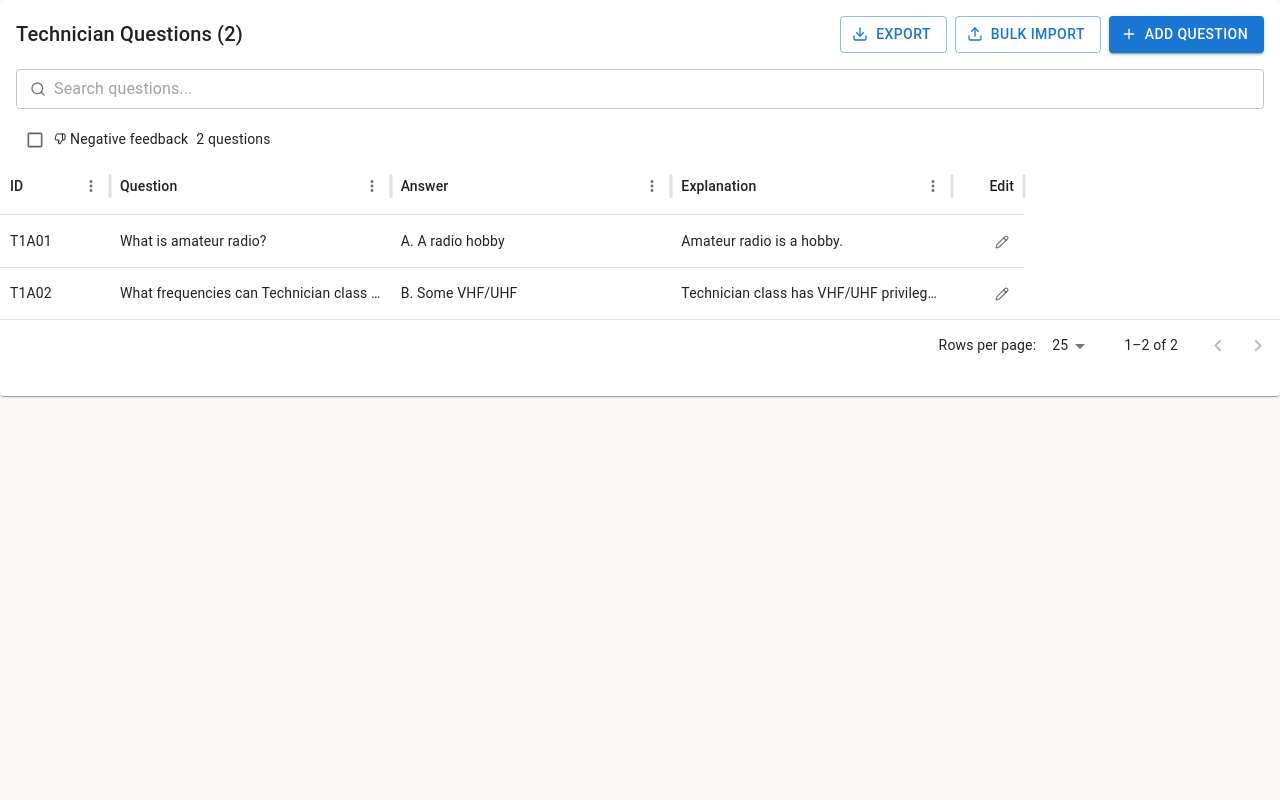
Test: AdminQuestions › Edit Question Dialog › should close edit dialog when clicking Cancel
The image size is (1280, 800).
expect the text "T1A01" is shown: met, box x1=10 y1=232 x2=52 y2=248
What coordinates should you click on to do the following:
click the button named "Edit T1A01"
I would click on:
 (1002, 242)
Its box is x1=990 y1=230 x2=1014 y2=254.
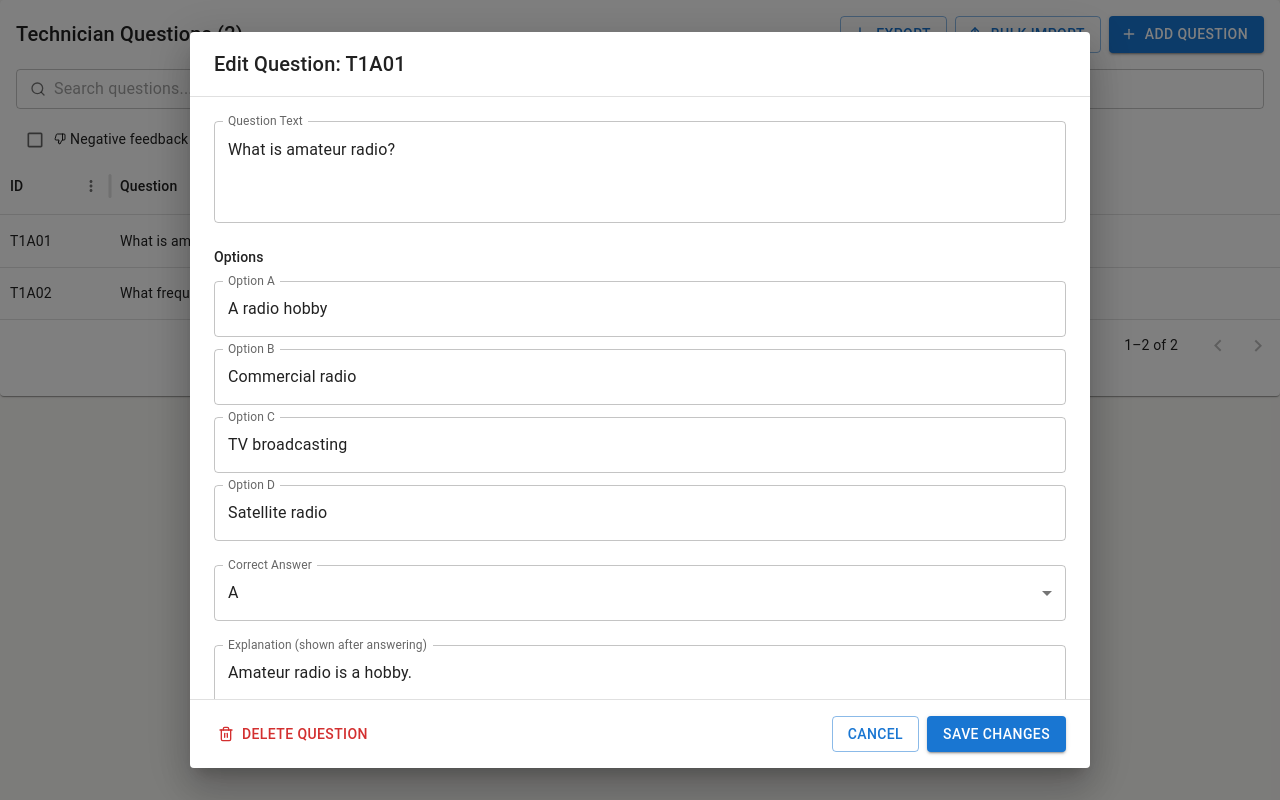
expect the heading "Edit Question: T1A01" is shown: met, box x1=214 y1=52 x2=406 y2=76
What coordinates should you click on to do the following:
click the button "Cancel"
I would click on:
 (875, 734)
Its box is x1=832 y1=716 x2=919 y2=752.
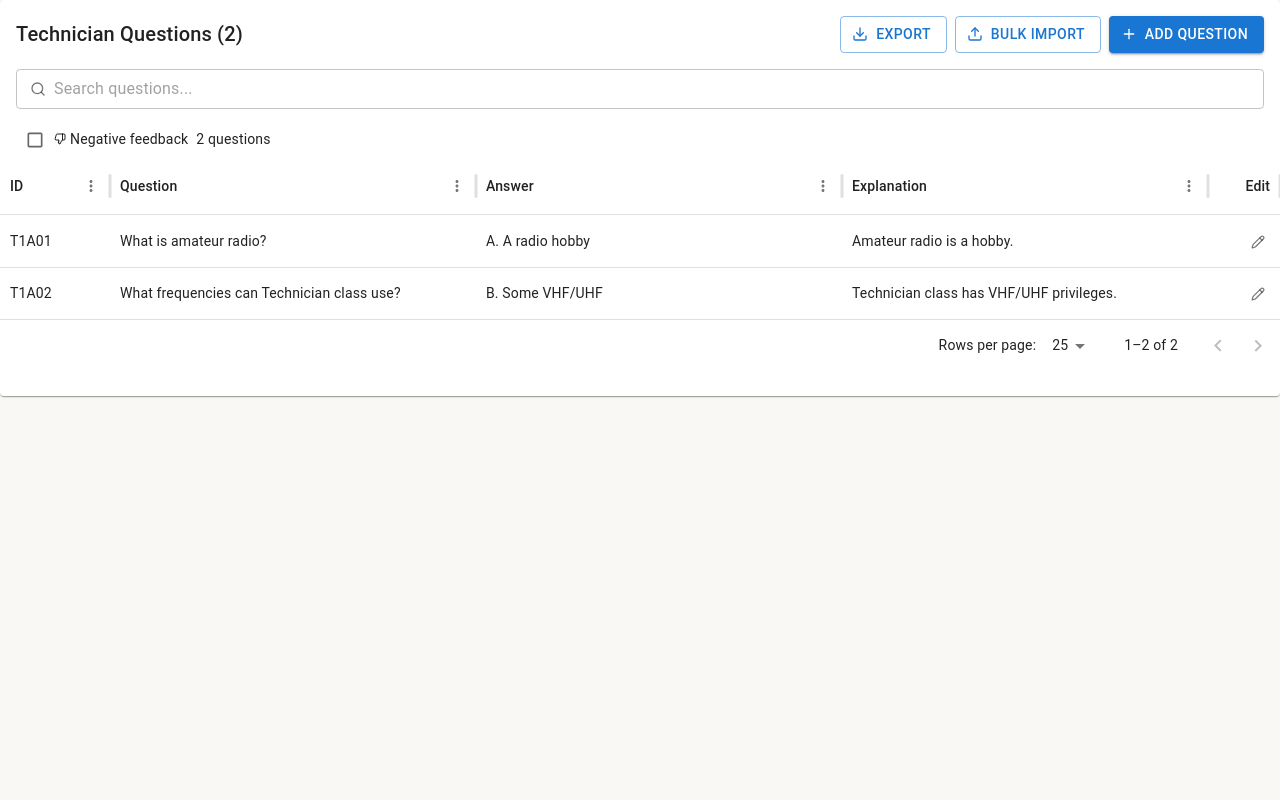
expect the heading "Edit Question: T1A01" is gone: met
